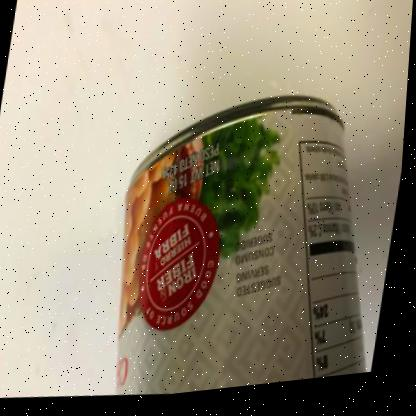Metal: (121, 103, 373, 399)
